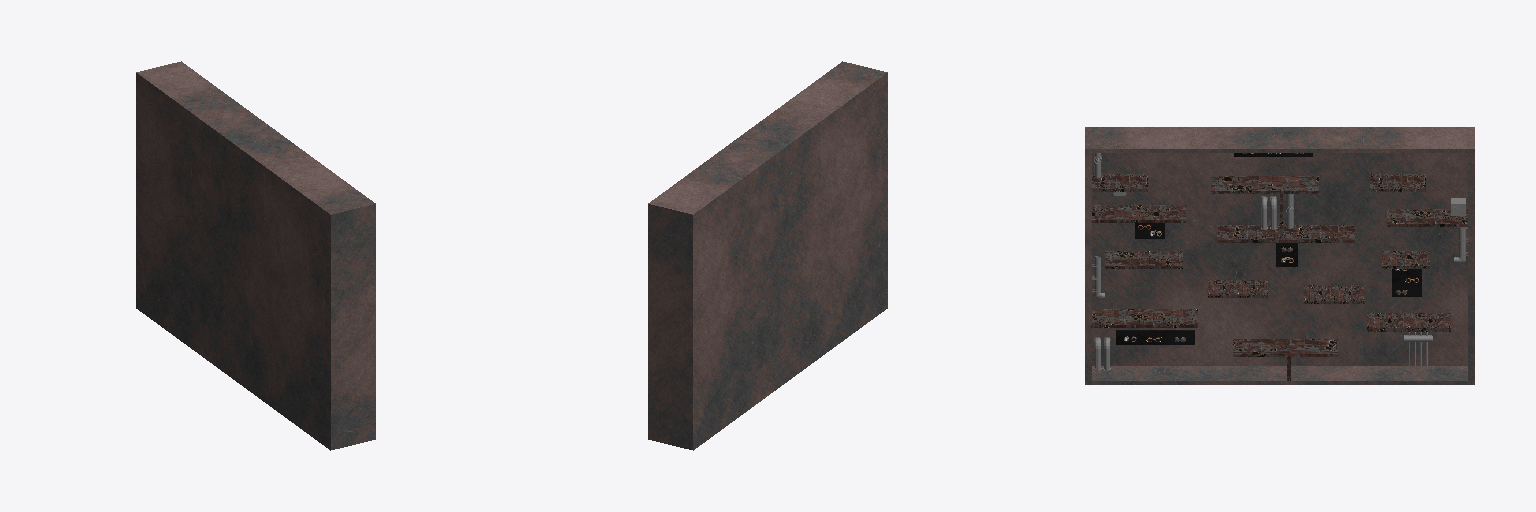
The picture shows the model from 3 angles: view 1: azimuth 30°, elevation 25°; view 2: azimuth 150°, elevation 25°; view 3: azimuth 270°, elevation 25°; orthographic projection.
Parts seen in each view (by area): view 1: polySurface195Estructura1; view 2: polySurface195Estructura1; view 3: polySurface195Estructura1.
Part boxes in pixels (x1,y1,x2,y2): polySurface195Estructura1: (136,61,375,450); polySurface195Estructura1: (648,61,887,450); polySurface195Estructura1: (1085,127,1474,384).
Bounding box in the file's own units: 5.47 × 27.22 × 40.69.
Materials: 20 (6 with a texture image).